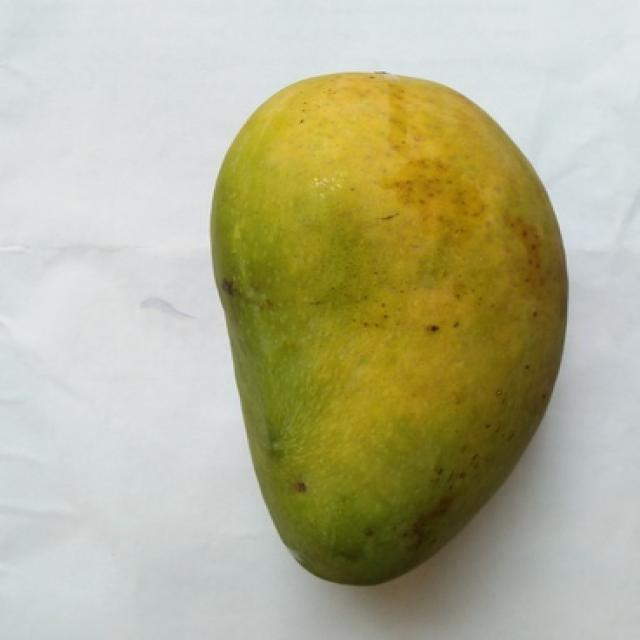Mango: (212, 73, 565, 583)
